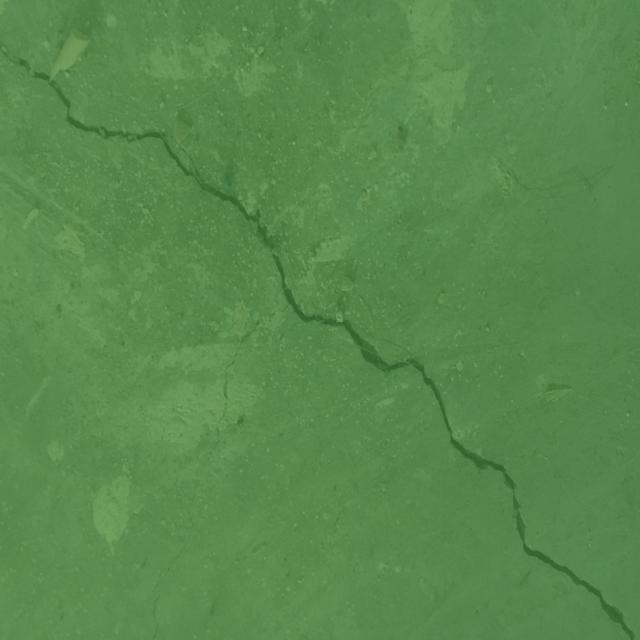crack: (0, 41, 636, 640), (151, 592, 160, 640)
